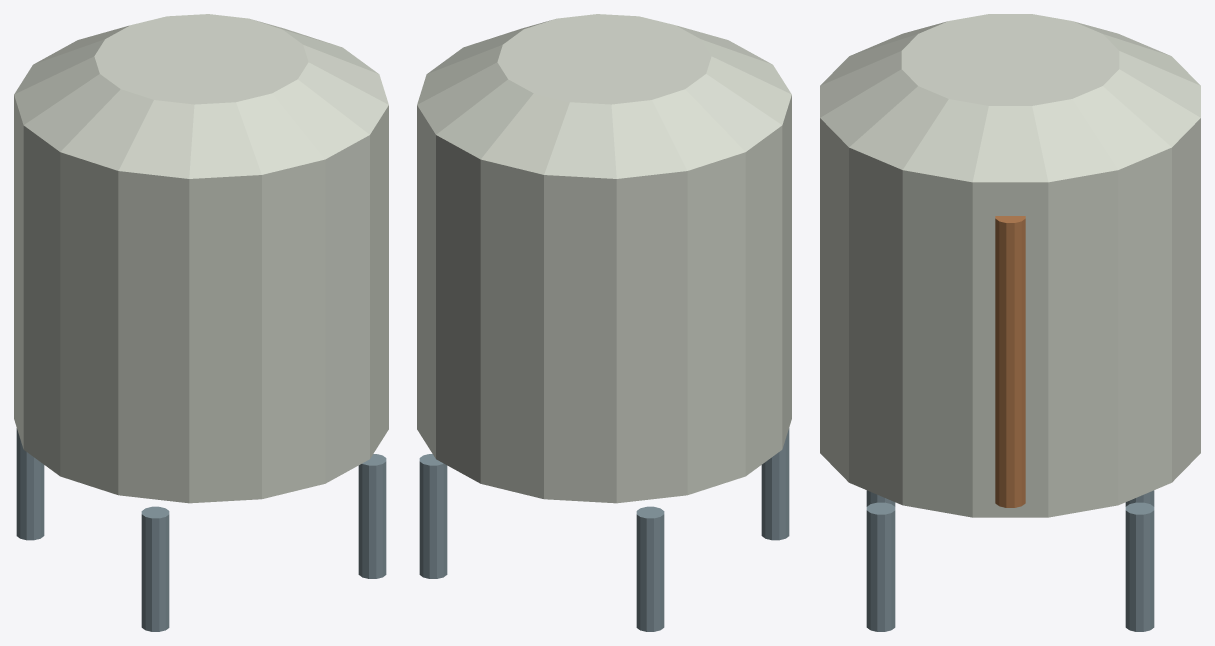
File: Utility_WaterTank.glb
The picture shows the model from 3 angles, left to right: view 1: azimuth 30°, elevation 25°; view 2: azimuth 150°, elevation 25°; view 3: azimuth 270°, elevation 25°; orthographic projection. The views are drawn at different scales.
Visible parts, largest first — view 1: Utility_WaterTank_Tank, Utility_WaterTank_Legs; view 2: Utility_WaterTank_Tank, Utility_WaterTank_Legs; view 3: Utility_WaterTank_Tank, Utility_WaterTank_Pipe, Utility_WaterTank_Legs.
Boxes of the visible parts, left/top/right/bottom form: Utility_WaterTank_Tank: left=14, top=14, right=388, bottom=503; Utility_WaterTank_Legs: left=16, top=428, right=386, bottom=631; Utility_WaterTank_Tank: left=417, top=14, right=791, bottom=503; Utility_WaterTank_Legs: left=419, top=428, right=789, bottom=631; Utility_WaterTank_Tank: left=820, top=14, right=1200, bottom=517; Utility_WaterTank_Pipe: left=995, top=216, right=1025, bottom=507; Utility_WaterTank_Legs: left=866, top=490, right=1154, bottom=631.
Bounding box in the file's own units: 2.15 × 3.05 × 2.06.
